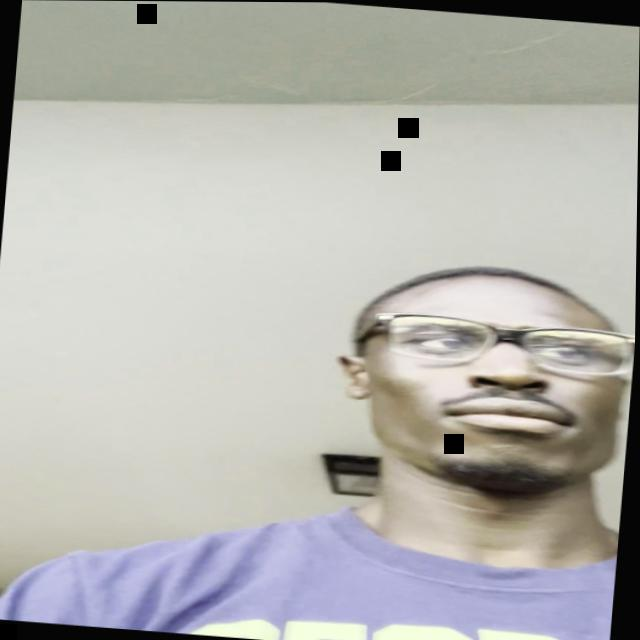NO-Mask: (333, 257, 637, 517)
